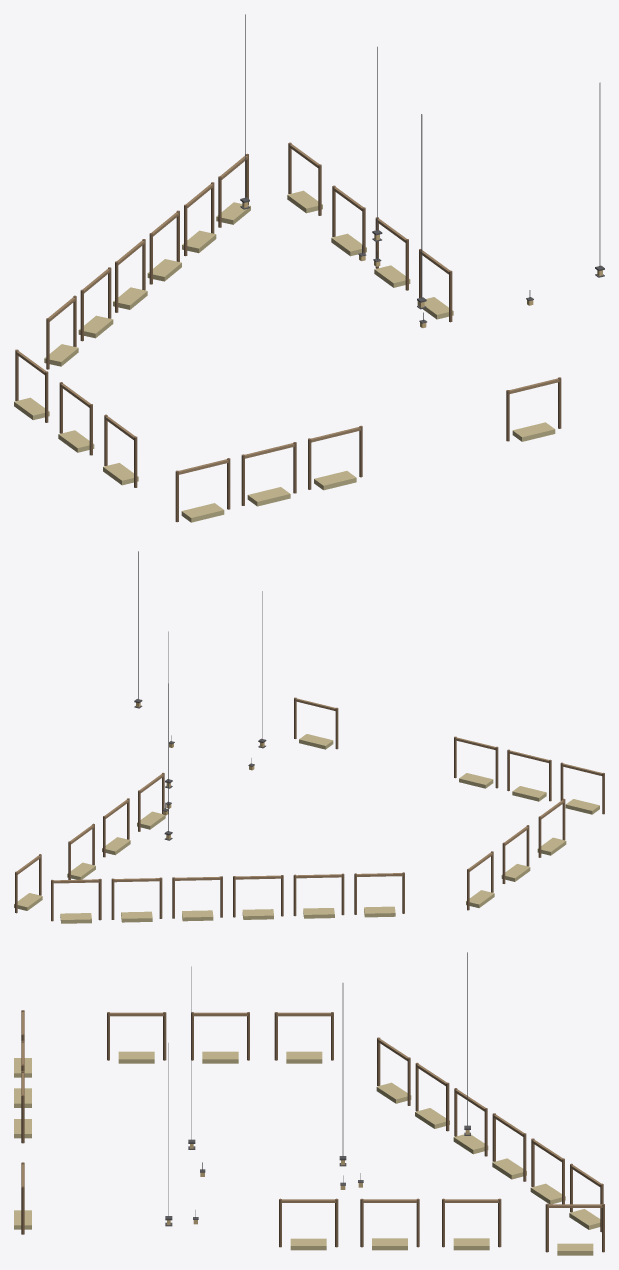
Rendered from interior_bird01.glb.
The picture shows the model from 3 angles, top to bottom: view 1: azimuth 30°, elevation 25°; view 2: azimuth 150°, elevation 25°; view 3: azimuth 270°, elevation 25°; orthographic projection. The views are drawn at different scales.
Parts seen in each view (by area): view 1: Interior_BIRD01_mesh; view 2: Interior_BIRD01_mesh; view 3: Interior_BIRD01_mesh.
Part boxes in pixels (x1=…): Interior_BIRD01_mesh: x1=14, y1=14, x2=604, y2=522; Interior_BIRD01_mesh: x1=14, y1=551, x2=604, y2=923; Interior_BIRD01_mesh: x1=14, y1=952, x2=604, y2=1255.
Bounding box in the file's own units: 27.57 × 13.5 × 29.49.
